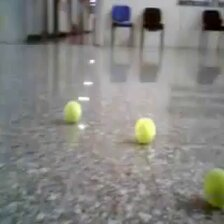tennis: (203, 168, 224, 207), (133, 116, 156, 142), (65, 102, 82, 120)
